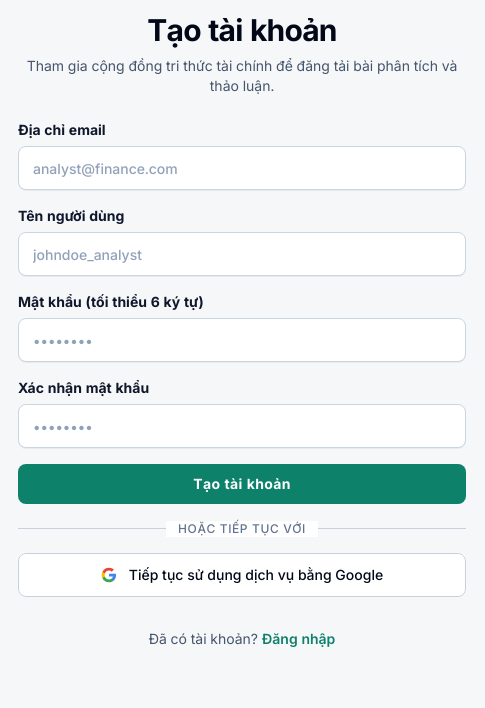
Test case: RegisterForm Component › validates password minimum length and mismatch
Type "user@finance.com" into the field labelled "Địa chỉ email".
click(242, 168); type("user@finance.com")  # box [18,146,466,190]
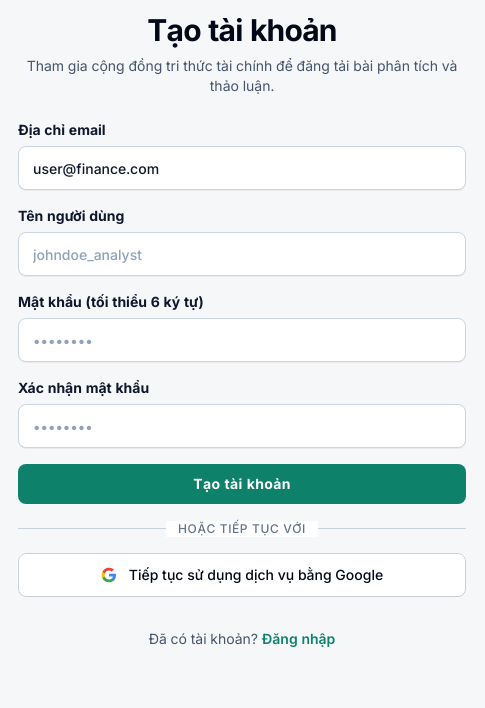
Type "valid_user" into the field labelled "Tên người dùng".
click(242, 254); type("valid_user")  # box [18,232,466,276]
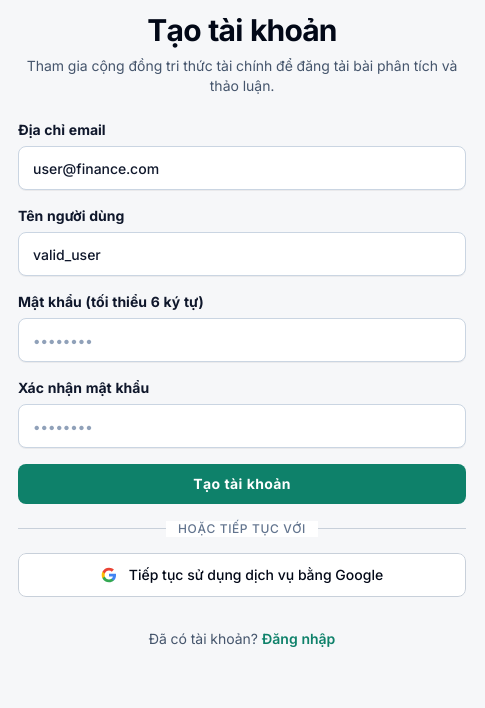
Type "123" into the password field labelled "Mật khẩu (tối thiểu 6 ký tự)".
click(242, 340); type("123")  # box [18,318,466,362]
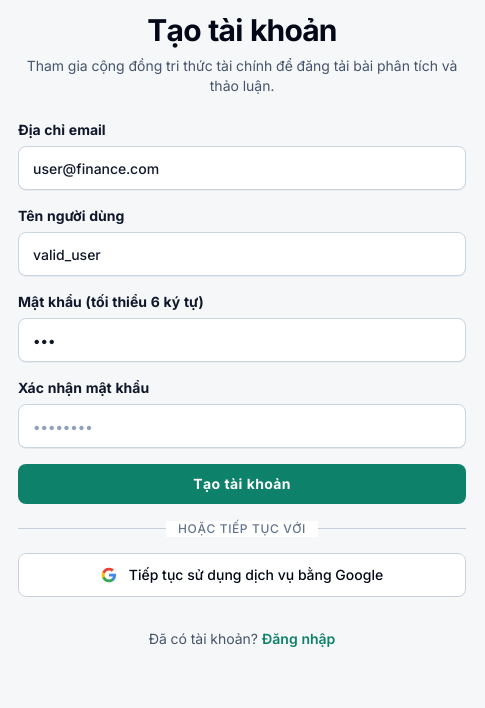
Type "123456" into the password field labelled "Xác nhận mật khẩu".
click(242, 426); type("123456")  # box [18,404,466,448]
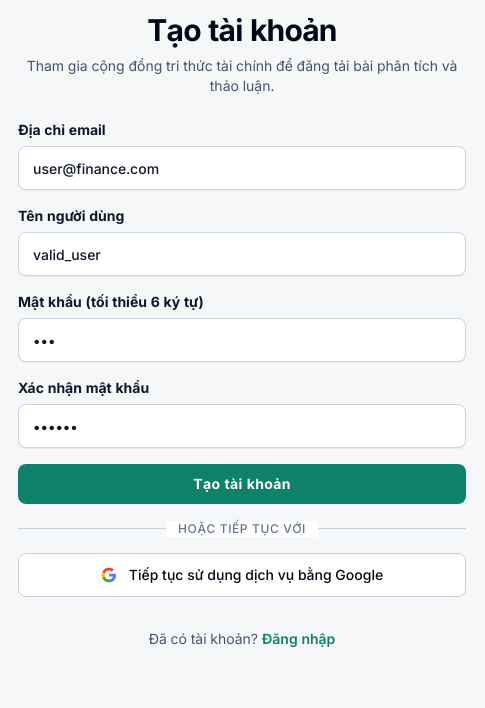
Click the button "Tạo tài khoản".
click(242, 484)  # box [18,464,466,504]
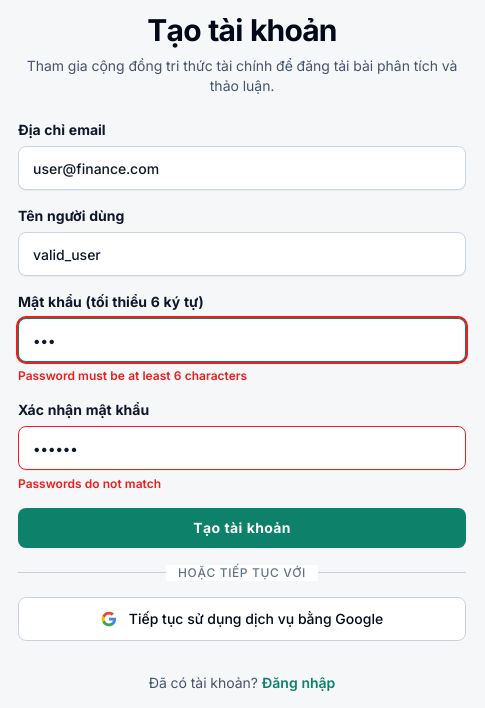
Now the text "Password must be at least 6 characters" is shown, box [18,368,247,383]
